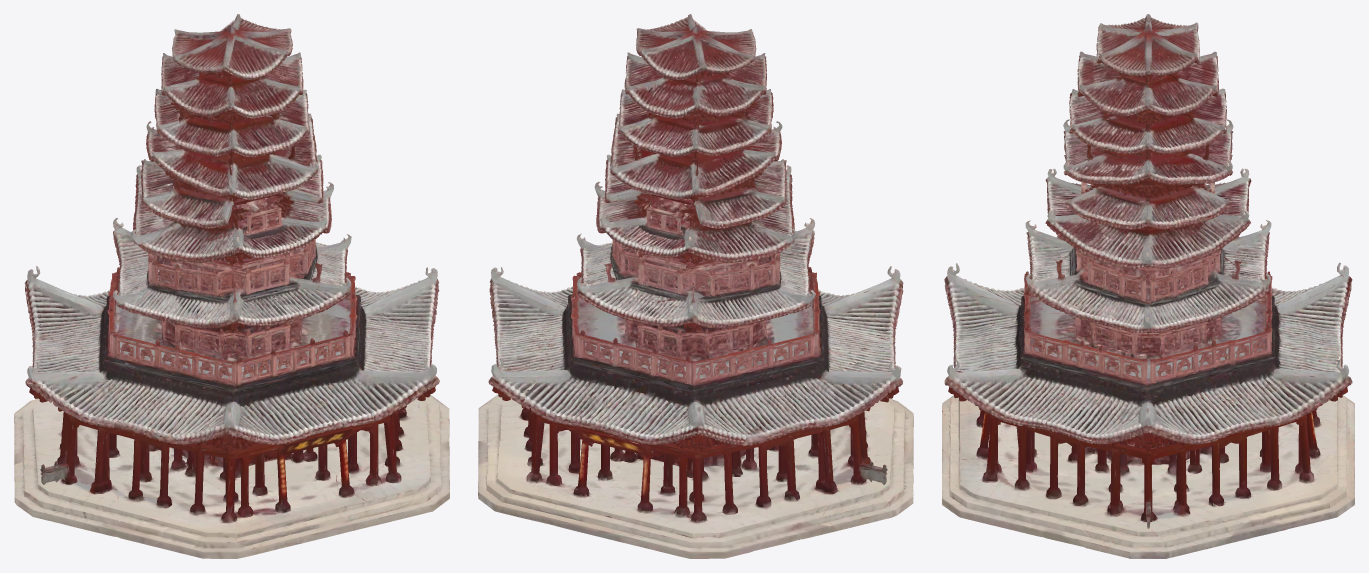
The model's file is lib_pagoda_red.hd.glb.
3 renders of one model, left to right at view 1: azimuth 30°, elevation 25°; view 2: azimuth 150°, elevation 25°; view 3: azimuth 270°, elevation 25°, orthographic.
Visible parts, largest first — view 1: output_unwrapped; view 2: output_unwrapped; view 3: output_unwrapped.
Boxes of the visible parts, bbox=[...] form: output_unwrapped: bbox=[14, 14, 449, 558]; output_unwrapped: bbox=[478, 14, 913, 558]; output_unwrapped: bbox=[942, 14, 1354, 558].
Size of the model in its own units: 2 by 1.99 by 1.72.
Materials: 1 (1 with a texture image).
